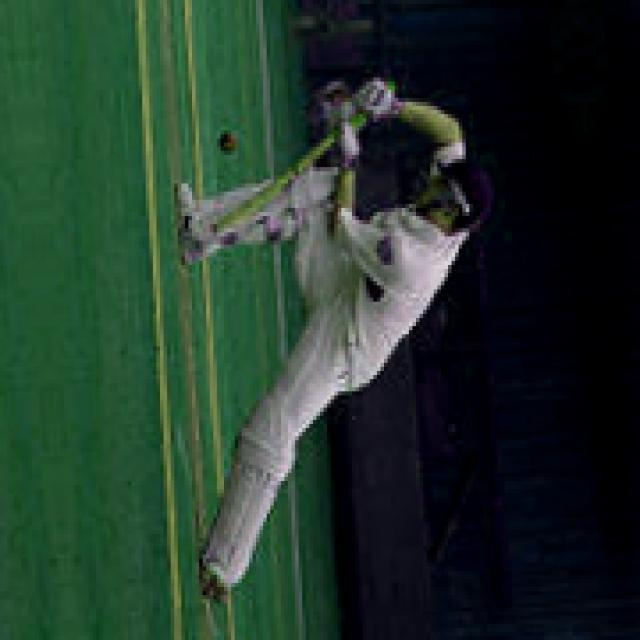toe: (194, 203, 257, 248)
